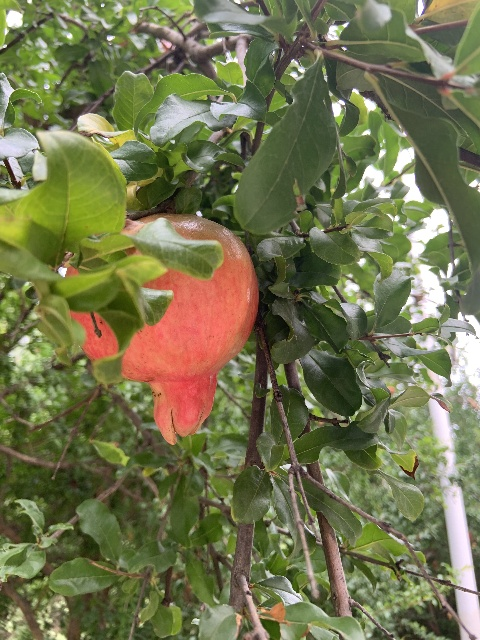ripe: (66, 212, 259, 445)
